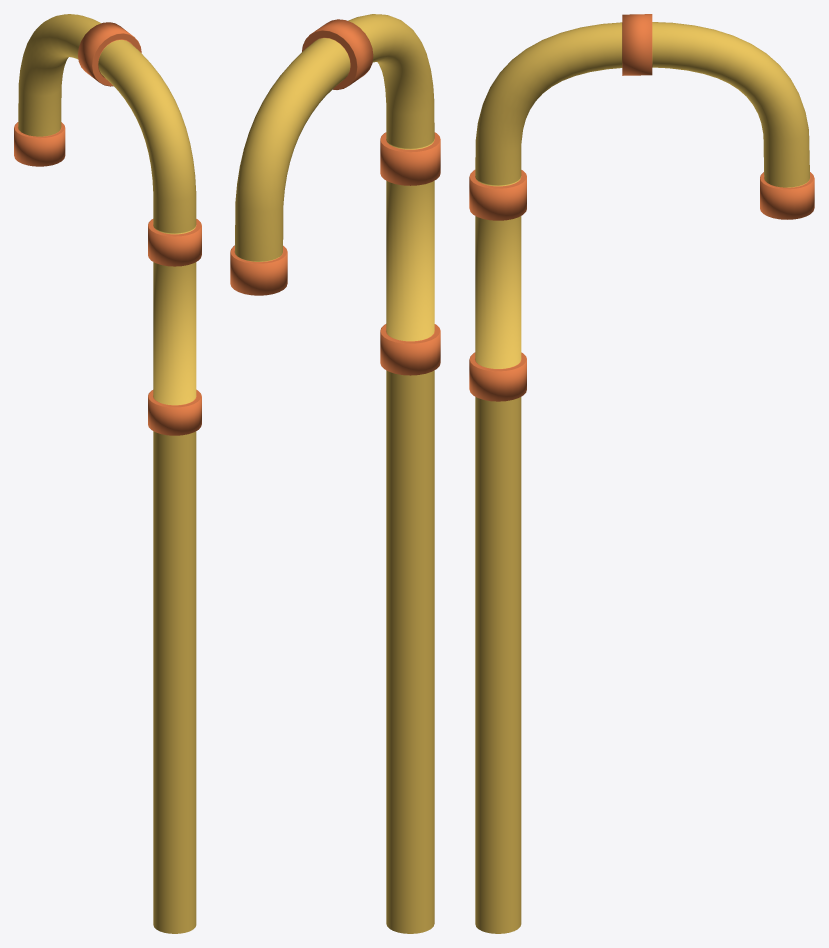
File: Color_Machine.fbx
The picture shows the model from 3 angles, left to right: view 1: azimuth 30°, elevation 25°; view 2: azimuth 150°, elevation 25°; view 3: azimuth 270°, elevation 25°; orthographic projection. The views are drawn at different scales.
Parts seen in each view (by area): view 1: Color_Machine; view 2: Color_Machine; view 3: Color_Machine.
Boxes of the visible parts, bbox=[...] form: Color_Machine: bbox=[14, 14, 201, 933]; Color_Machine: bbox=[230, 14, 440, 933]; Color_Machine: bbox=[469, 14, 814, 933].
Size of the model in its own units: 42.95 by 698 by 241.
